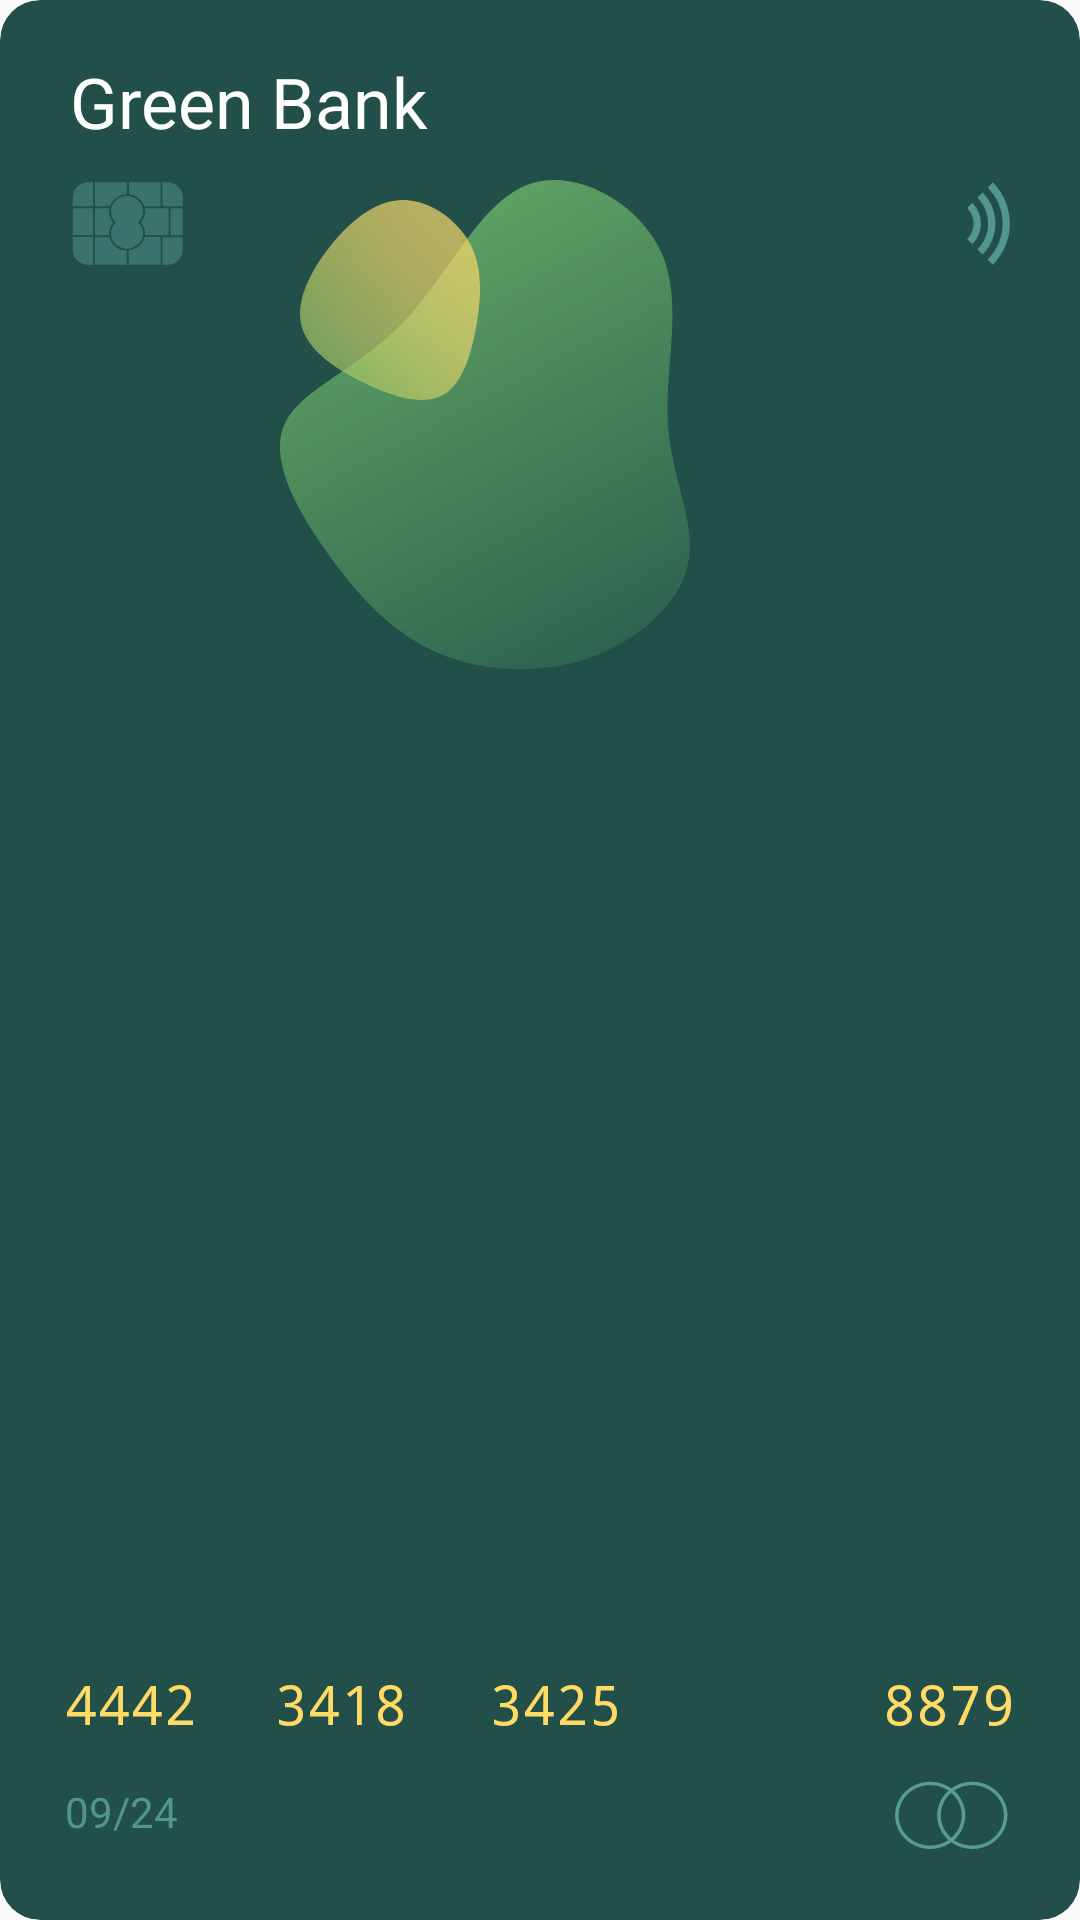

Named icons in this screenshot (1080*1920) and their centers, (x=x, y=y):
credit card chip: (x=128, y=223)
